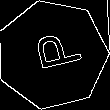P_W: (23, 30, 82, 79)
